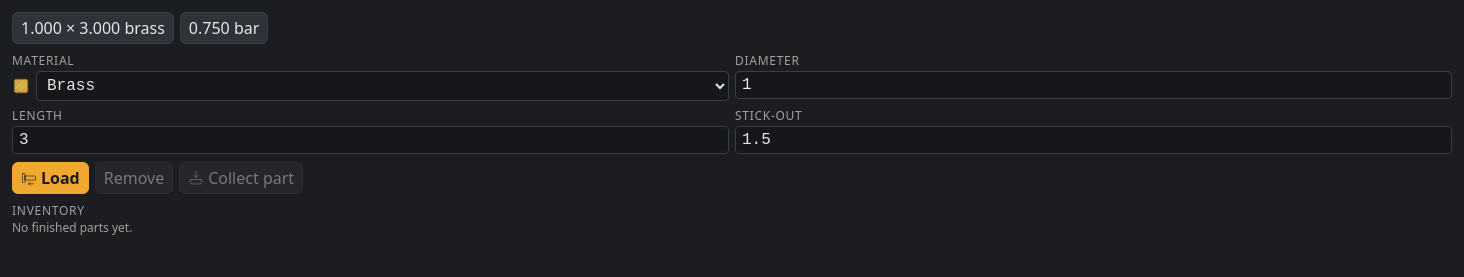
Scenario: StockPanel › edits material and sizes, uses presets, validates
The width and height of the screenshot is (1464, 277).
Click the button with test id "stock-preset-bar-750" at (224, 28), box [180,12,268,44]
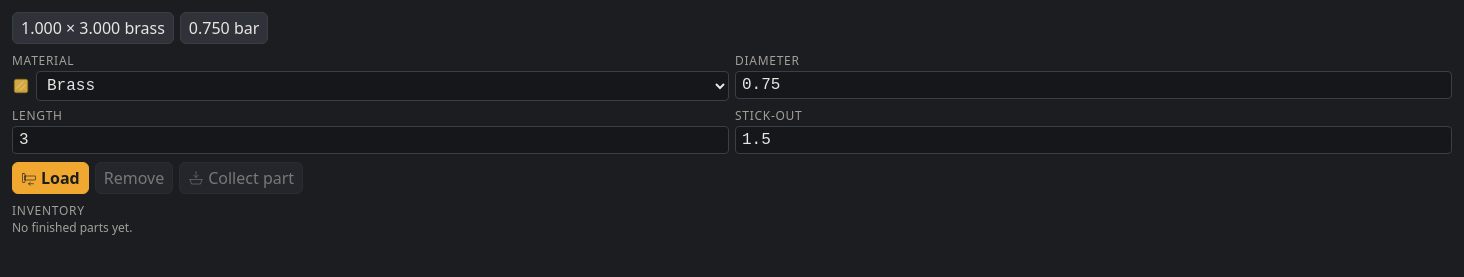
expect the number field with test id "stock-diameter" holds "0.75": met, box [735,71,1452,99]
Select "Aluminum" in the dropdown with test id "stock-material" at (382, 86), box [36,71,729,101]
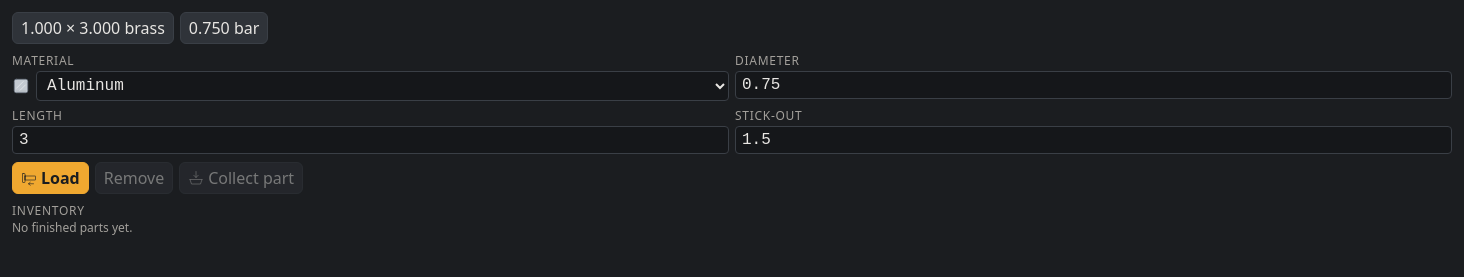
Replace the text in the number field with test id "stock-stickOut" with "1.25" at (1094, 140), box [735,126,1452,154]
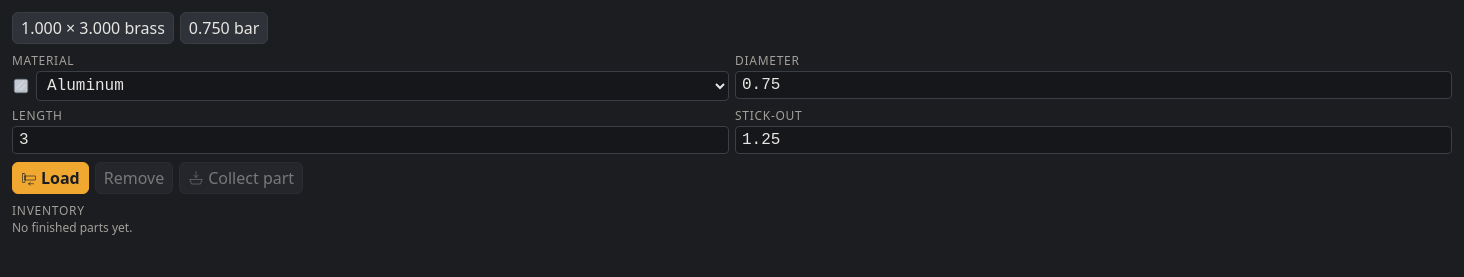
Click the button with test id "stock-load" at (50, 178), box [12,162,89,194]
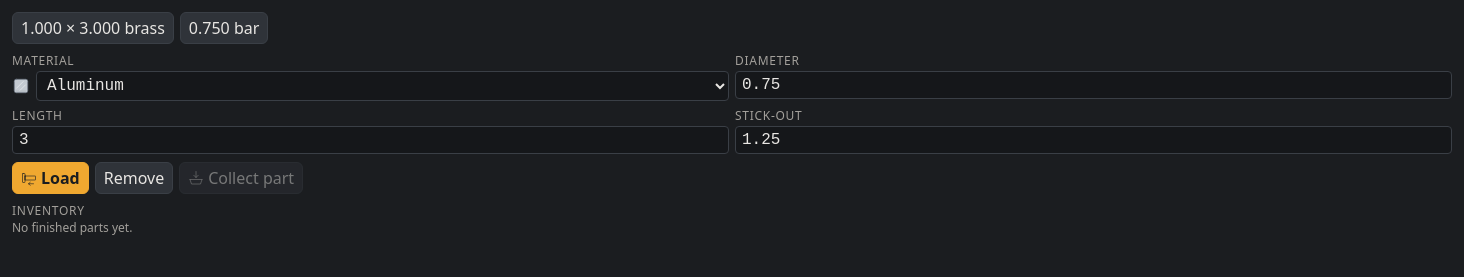
Replace the text in the number field with test id "stock-diameter" with "5" at (1094, 85), box [735,71,1452,99]
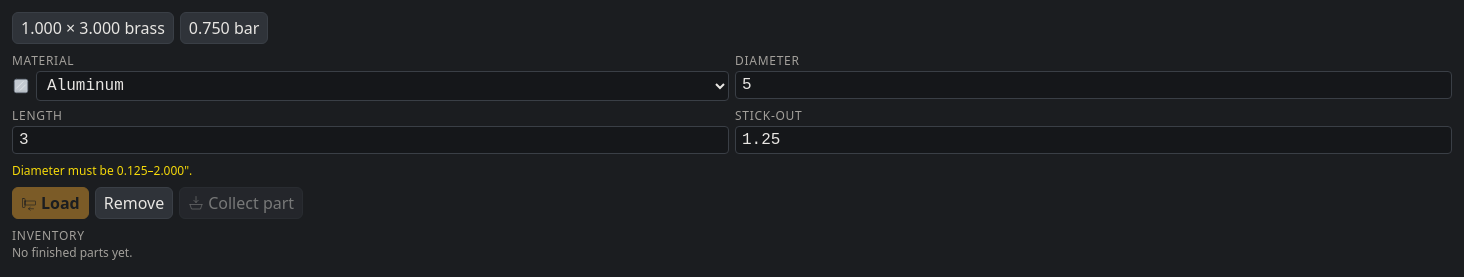
expect the message shows "Diameter": met, box [12,162,192,179]
expect the button with test id "stock-load" is disabled: met, box [12,187,89,219]
Clear the number field with test id "stock-diameter" at (1094, 85), box [735,71,1452,99]
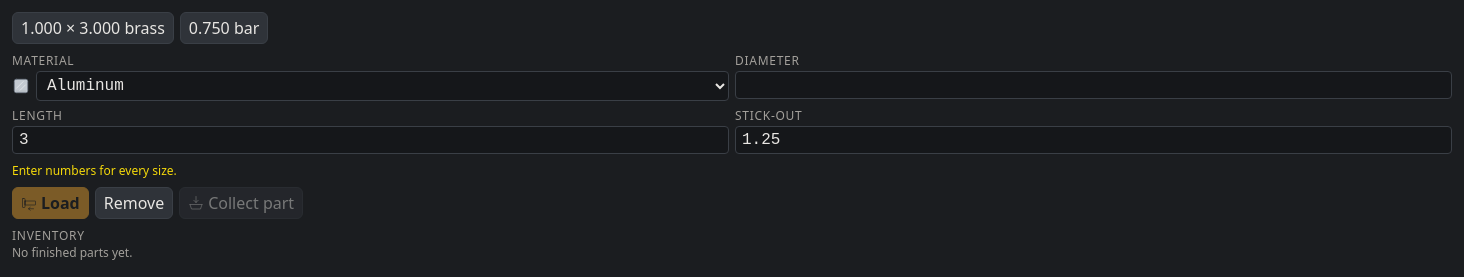
expect the message shows "numbers": met, box [12,162,177,179]
